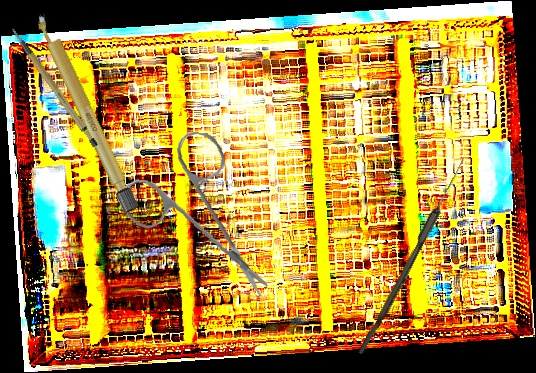Iris Scissors: (116, 125, 283, 297)
Scalpel Handle: (31, 7, 141, 216), (11, 16, 100, 157)
Surgical Spoon: (358, 154, 468, 358)
